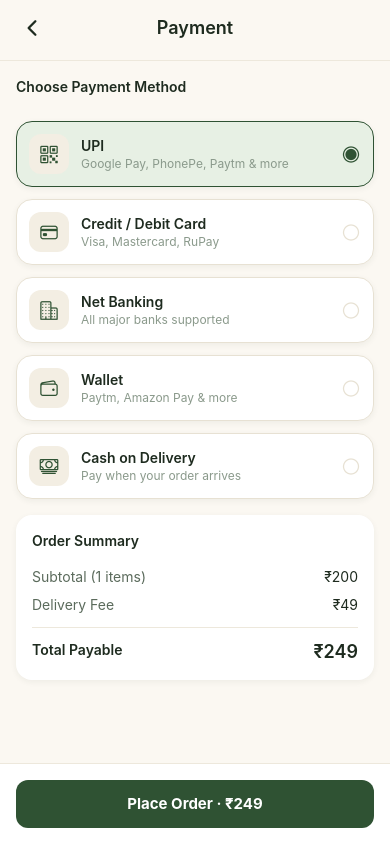
Test: CheckoutPaymentScreen › order placement failure and cancellation › clears the error and succeeds on a retry after a failed attempt
Click the button "Place Order · ₹249" at (195, 804), box [16, 780, 374, 828]
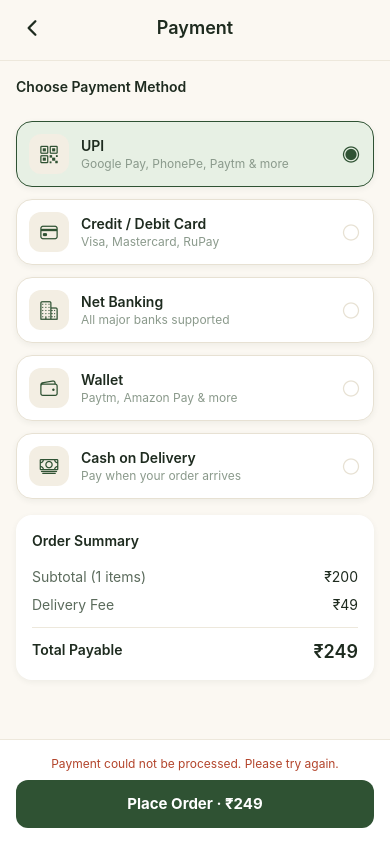
Expected: the text "Payment could not be processed. Please try again." is shown, [51, 756, 339, 771]
Click the button "Place Order · ₹249" at (195, 804), box [16, 780, 374, 828]
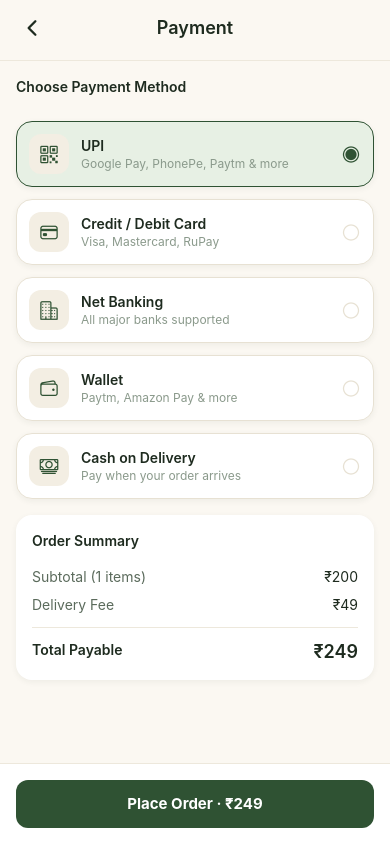
Expected: the text "Payment could not be processed. Please try again." is gone
